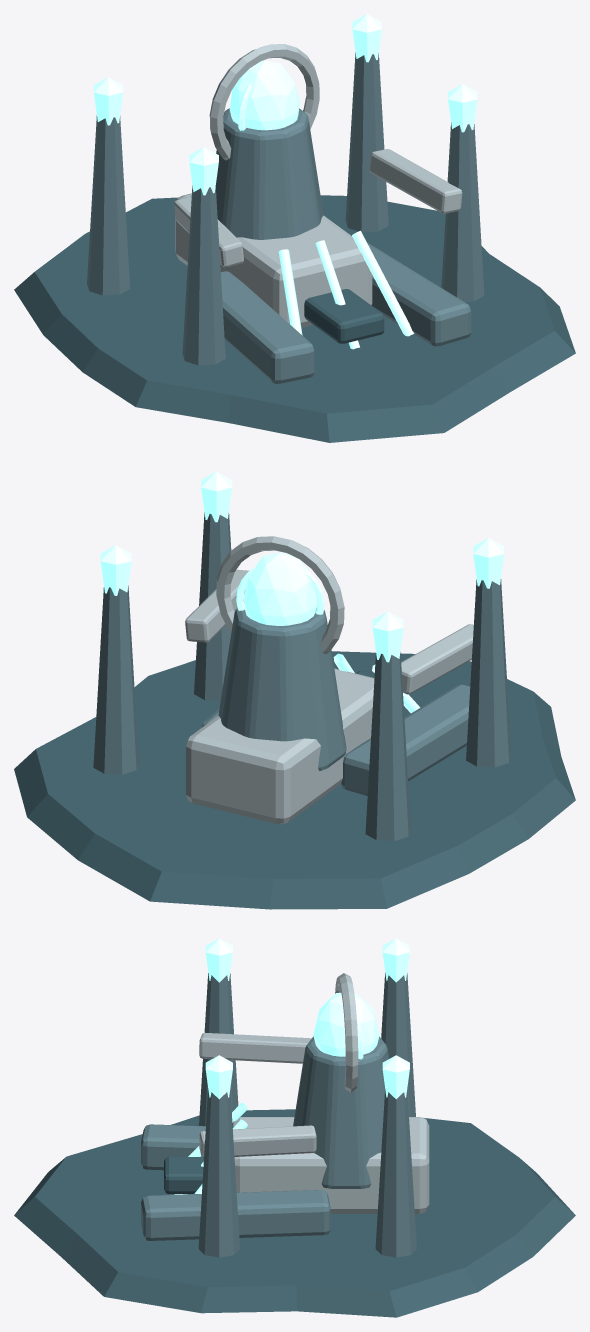
The model's file is liquid-blu-metal-sea-lod1.glb.
3 views of the same model, one above another, from view 1: azimuth 30°, elevation 25°; view 2: azimuth 150°, elevation 25°; view 3: azimuth 270°, elevation 25° (orthographic). The views are drawn at different scales.
Parts seen in each view (by area): view 1: STONE_TERRAIN_SOCKET, METAL_FORGE_HEART, METAL_FORGE_SPINE, METAL_MAGNETIC_PYLON_2, METAL_MAGNETIC_PYLON_0, METAL_HARBOR_PIER_-1, METAL_MAGNETIC_PYLON_3, METAL_MAGNETIC_PYLON_1, METAL_HARBOR_PIER_1, FX_CORE, FX_RING_PRIMARY, DARK_HARBOR_INLET (+9 smaller); view 2: STONE_TERRAIN_SOCKET, METAL_FORGE_HEART, METAL_FORGE_SPINE, METAL_MAGNETIC_PYLON_0, METAL_MAGNETIC_PYLON_2, METAL_MAGNETIC_PYLON_3, METAL_HARBOR_PIER_-1, FX_CORE, METAL_MAGNETIC_PYLON_1, FX_RING_PRIMARY, TRIM_HARBOR_CRANE_ARM_-1, TRIM_HARBOR_CRANE_ARM_1 (+5 smaller); view 3: STONE_TERRAIN_SOCKET, METAL_FORGE_HEART, METAL_FORGE_SPINE, METAL_HARBOR_PIER_1, METAL_MAGNETIC_PYLON_3, METAL_MAGNETIC_PYLON_1, TRIM_HARBOR_CRANE_ARM_-1, METAL_MAGNETIC_PYLON_2, TRIM_HARBOR_CRANE_ARM_1, FX_CORE, METAL_MAGNETIC_PYLON_0, METAL_HARBOR_PIER_-1 (+6 smaller).
Boxes of the visible parts, bbox=[...] form: STONE_TERRAIN_SOCKET: bbox=[14, 195, 575, 442]; METAL_FORGE_HEART: bbox=[215, 108, 323, 268]; METAL_FORGE_SPINE: bbox=[175, 193, 372, 327]; METAL_MAGNETIC_PYLON_2: bbox=[87, 115, 130, 295]; METAL_MAGNETIC_PYLON_0: bbox=[182, 185, 225, 365]; METAL_HARBOR_PIER_-1: bbox=[220, 271, 314, 383]; METAL_MAGNETIC_PYLON_3: bbox=[345, 52, 388, 232]; METAL_MAGNETIC_PYLON_1: bbox=[441, 122, 484, 301]; METAL_HARBOR_PIER_1: bbox=[367, 242, 471, 346]; FX_CORE: bbox=[229, 60, 299, 130]; FX_RING_PRIMARY: bbox=[209, 44, 319, 160]; DARK_HARBOR_INLET: bbox=[304, 289, 384, 343]; STONE_TERRAIN_SOCKET: bbox=[14, 651, 575, 909]; METAL_FORGE_HEART: bbox=[218, 608, 346, 770]; METAL_FORGE_SPINE: bbox=[186, 668, 374, 824]; METAL_MAGNETIC_PYLON_0: bbox=[466, 579, 511, 767]; METAL_MAGNETIC_PYLON_2: bbox=[365, 652, 410, 841]; METAL_MAGNETIC_PYLON_3: bbox=[93, 585, 138, 774]; METAL_HARBOR_PIER_-1: bbox=[341, 684, 470, 795]; FX_CORE: bbox=[244, 552, 317, 625]; METAL_MAGNETIC_PYLON_1: bbox=[194, 512, 231, 700]; FX_RING_PRIMARY: bbox=[216, 536, 344, 653]; TRIM_HARBOR_CRANE_ARM_-1: bbox=[401, 624, 473, 694]; TRIM_HARBOR_CRANE_ARM_1: bbox=[185, 569, 249, 642]; STONE_TERRAIN_SOCKET: bbox=[14, 1109, 575, 1317]; METAL_FORGE_HEART: bbox=[293, 1036, 389, 1188]; METAL_FORGE_SPINE: bbox=[232, 1117, 429, 1213]; METAL_HARBOR_PIER_1: bbox=[141, 1190, 330, 1240]; METAL_MAGNETIC_PYLON_3: bbox=[375, 1089, 416, 1257]; METAL_MAGNETIC_PYLON_1: bbox=[198, 1090, 239, 1257]; TRIM_HARBOR_CRANE_ARM_-1: bbox=[199, 1033, 311, 1063]; METAL_MAGNETIC_PYLON_2: bbox=[381, 972, 415, 1116]; TRIM_HARBOR_CRANE_ARM_1: bbox=[199, 1125, 316, 1158]; FX_CORE: bbox=[313, 992, 379, 1056]; METAL_MAGNETIC_PYLON_0: bbox=[199, 973, 238, 1126]; METAL_HARBOR_PIER_-1: bbox=[141, 1124, 205, 1170].
Size of the model in its own units: 1.68 by 0.9438 by 2.03.
